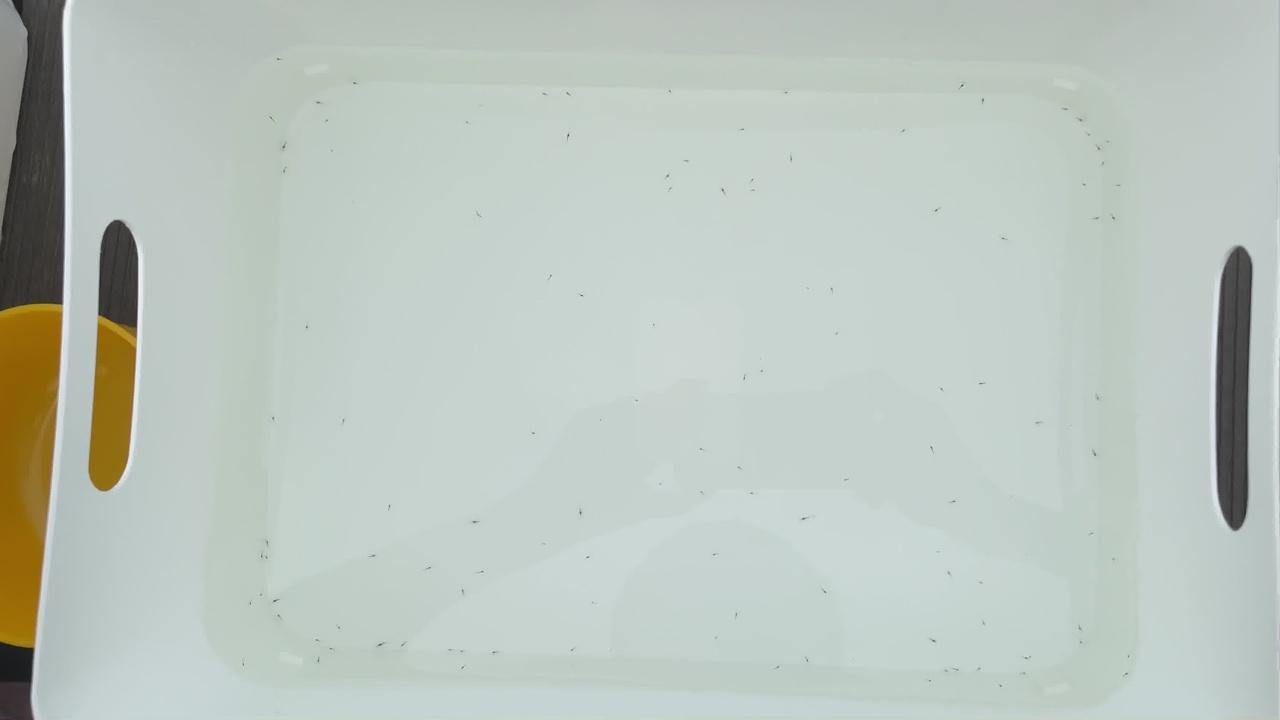shrimp: (280, 168, 292, 176), (279, 141, 291, 149), (265, 115, 277, 123), (273, 54, 285, 62), (313, 97, 325, 105), (324, 117, 336, 125), (328, 147, 340, 155), (349, 79, 361, 87), (457, 120, 469, 128), (474, 210, 486, 218), (562, 132, 574, 140), (563, 90, 575, 98), (539, 93, 551, 101), (666, 186, 678, 194), (662, 174, 674, 182), (682, 155, 694, 163), (664, 88, 676, 96), (736, 129, 748, 137), (717, 186, 729, 194), (748, 188, 760, 196), (747, 178, 759, 186), (789, 157, 801, 165), (783, 90, 795, 98), (899, 129, 911, 137), (956, 81, 968, 89), (980, 98, 992, 106), (932, 206, 944, 214), (998, 237, 1010, 245), (1092, 215, 1104, 223), (1108, 213, 1120, 221), (1112, 181, 1124, 189), (1078, 182, 1090, 190), (1097, 161, 1109, 169), (1093, 145, 1105, 153), (1101, 138, 1113, 146), (1085, 131, 1097, 139), (1074, 116, 1086, 124), (1058, 106, 1070, 114), (543, 273, 555, 281), (577, 292, 589, 300), (649, 320, 661, 328), (738, 376, 750, 384), (759, 367, 771, 375), (826, 284, 838, 292), (803, 283, 815, 291), (833, 331, 845, 339), (936, 388, 948, 396), (978, 379, 990, 387), (925, 443, 937, 451), (950, 498, 962, 506), (1034, 421, 1046, 429), (1090, 449, 1102, 457), (1093, 395, 1105, 403), (1087, 530, 1099, 538), (1108, 556, 1120, 564), (1076, 625, 1088, 633), (1075, 642, 1087, 650), (1123, 655, 1135, 663), (1120, 674, 1132, 682), (994, 683, 1006, 691), (1020, 672, 1032, 680), (1020, 655, 1032, 663), (1023, 652, 1035, 660), (979, 620, 991, 628), (973, 663, 985, 671), (951, 667, 963, 675), (943, 669, 955, 677), (925, 679, 937, 687), (930, 638, 942, 646), (944, 569, 956, 577), (977, 580, 989, 588), (933, 549, 945, 557), (840, 477, 852, 485), (800, 516, 812, 524), (820, 588, 832, 596), (803, 655, 815, 663), (773, 663, 785, 671), (731, 610, 743, 618), (707, 550, 719, 558), (747, 490, 759, 498), (733, 464, 745, 472), (697, 490, 709, 498), (697, 447, 709, 455), (654, 480, 666, 488), (633, 400, 645, 408), (527, 431, 539, 439), (576, 510, 588, 518), (584, 551, 596, 559), (567, 646, 579, 654), (490, 648, 502, 656), (457, 665, 469, 673), (457, 647, 469, 655), (445, 647, 457, 655), (457, 588, 469, 596), (479, 569, 491, 577), (540, 542, 552, 550), (470, 518, 482, 526), (426, 564, 438, 572), (398, 640, 410, 648), (375, 643, 387, 651), (313, 660, 325, 668), (328, 645, 340, 653), (335, 624, 347, 632), (312, 636, 324, 644), (369, 553, 381, 561), (386, 504, 398, 512), (337, 416, 349, 424), (302, 324, 314, 332), (269, 417, 281, 425), (261, 539, 273, 547), (258, 554, 270, 562), (254, 592, 266, 600), (270, 599, 282, 607), (275, 614, 287, 622), (246, 600, 258, 608), (239, 662, 251, 670)
